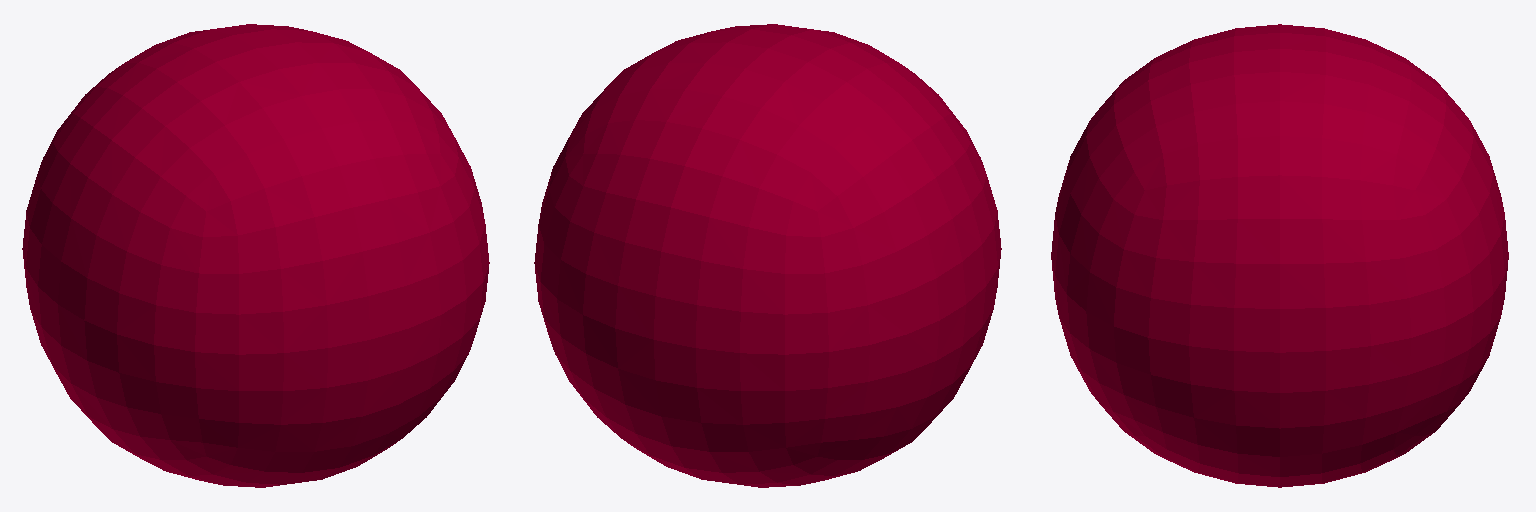
Rendered from forme_test_collor.obj.
3 views of the same model, side by side, from view 1: azimuth 30°, elevation 25°; view 2: azimuth 150°, elevation 25°; view 3: azimuth 270°, elevation 25° (orthographic).
Parts seen in each view (by area): view 1: Cube.001; view 2: Cube.001; view 3: Cube.001.
Part boxes in pixels (bbox=[...]): Cube.001: bbox=[22, 24, 489, 487]; Cube.001: bbox=[534, 24, 1001, 487]; Cube.001: bbox=[1051, 24, 1508, 487].
Size of the model in its own units: 1.7 by 1.7 by 1.7.